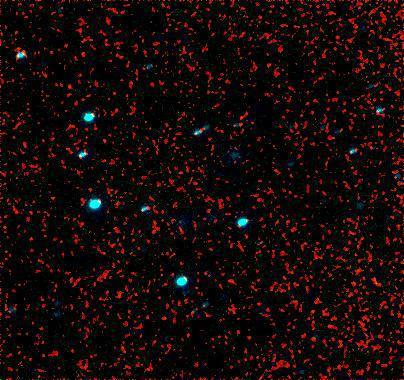star: (227, 100, 257, 130)
